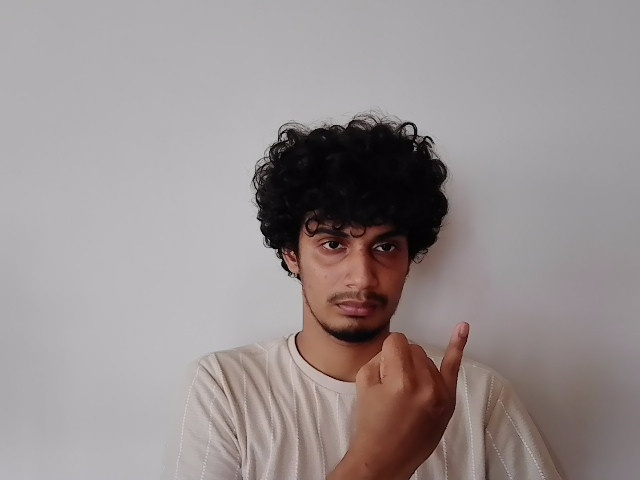bad: (350, 321, 470, 454)
